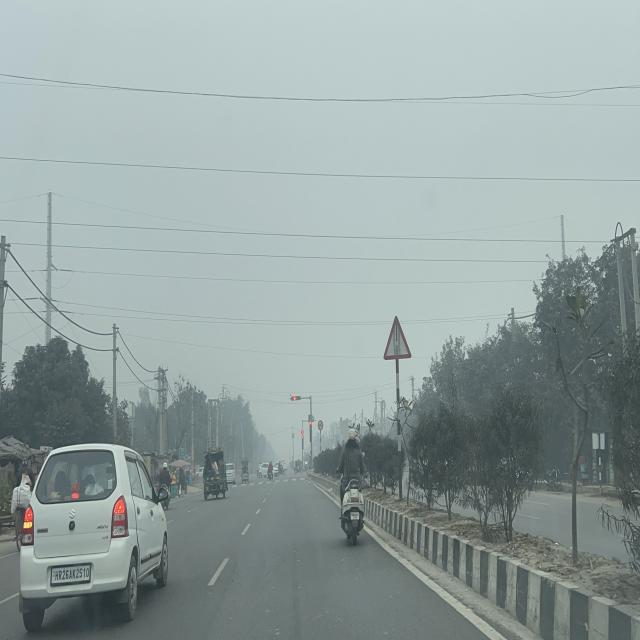GAP_IN_MEDIAN: (383, 315, 412, 361)
HORN_PROHIBITED: (318, 420, 323, 430)
